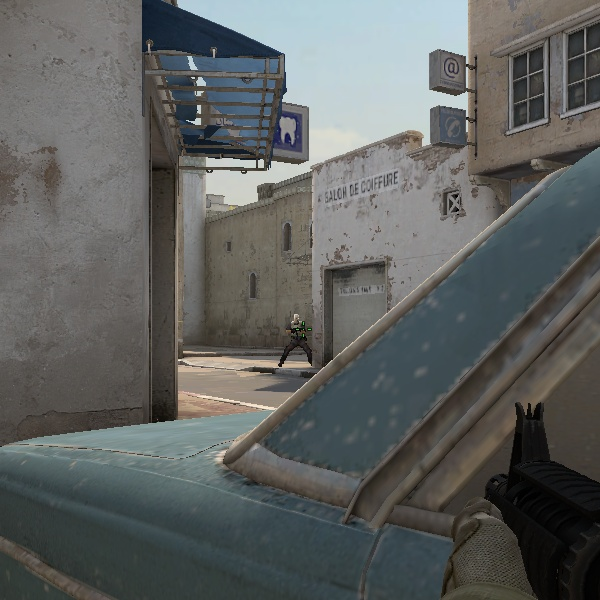t_body: (277, 310, 314, 368)
t_head: (290, 312, 304, 326)
